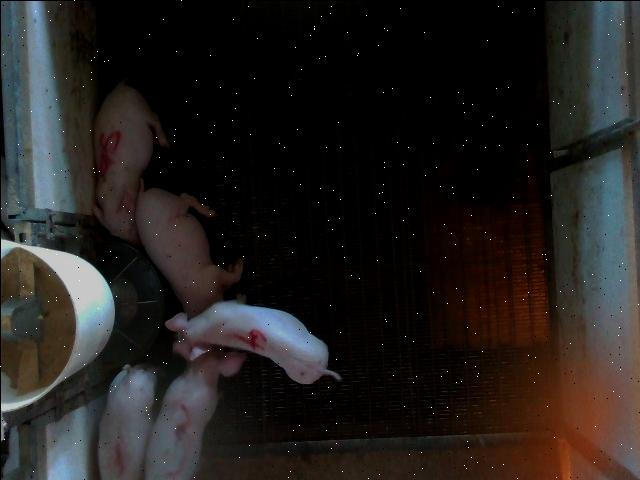pig-1: (99, 364, 158, 479)
pig-3: (144, 334, 245, 478)
pig-4: (165, 299, 340, 382)
pig-5: (92, 78, 169, 246)
